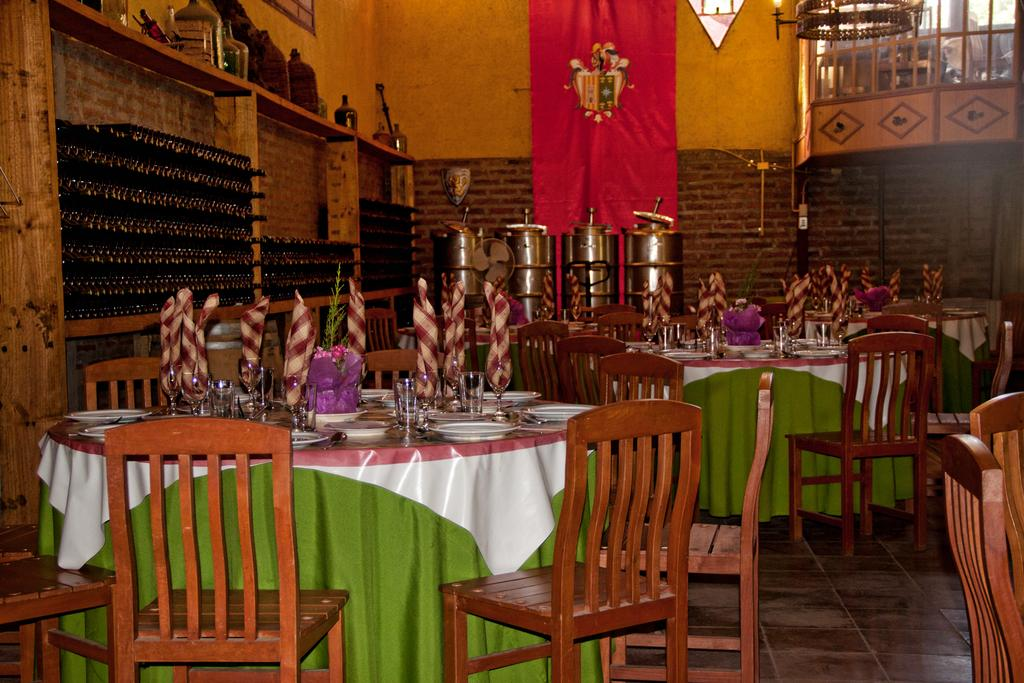Chair: (102, 416, 349, 682), (594, 371, 776, 682), (790, 328, 935, 551), (594, 352, 685, 618), (904, 320, 1016, 514), (942, 433, 1023, 682), (0, 551, 122, 681), (968, 396, 1023, 614), (0, 522, 56, 680), (556, 332, 631, 415), (968, 288, 1023, 400), (84, 356, 178, 411), (866, 309, 920, 404), (514, 317, 573, 401), (356, 345, 451, 388), (353, 307, 403, 377), (588, 300, 637, 345), (598, 313, 649, 343), (668, 315, 705, 342)
